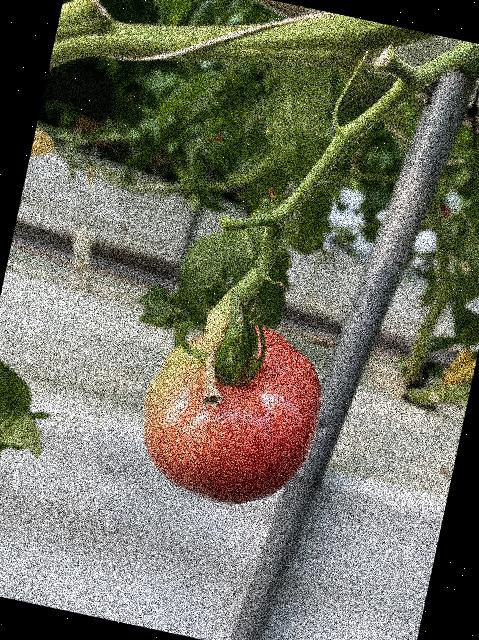b_half_ripened: (125, 303, 337, 520)
